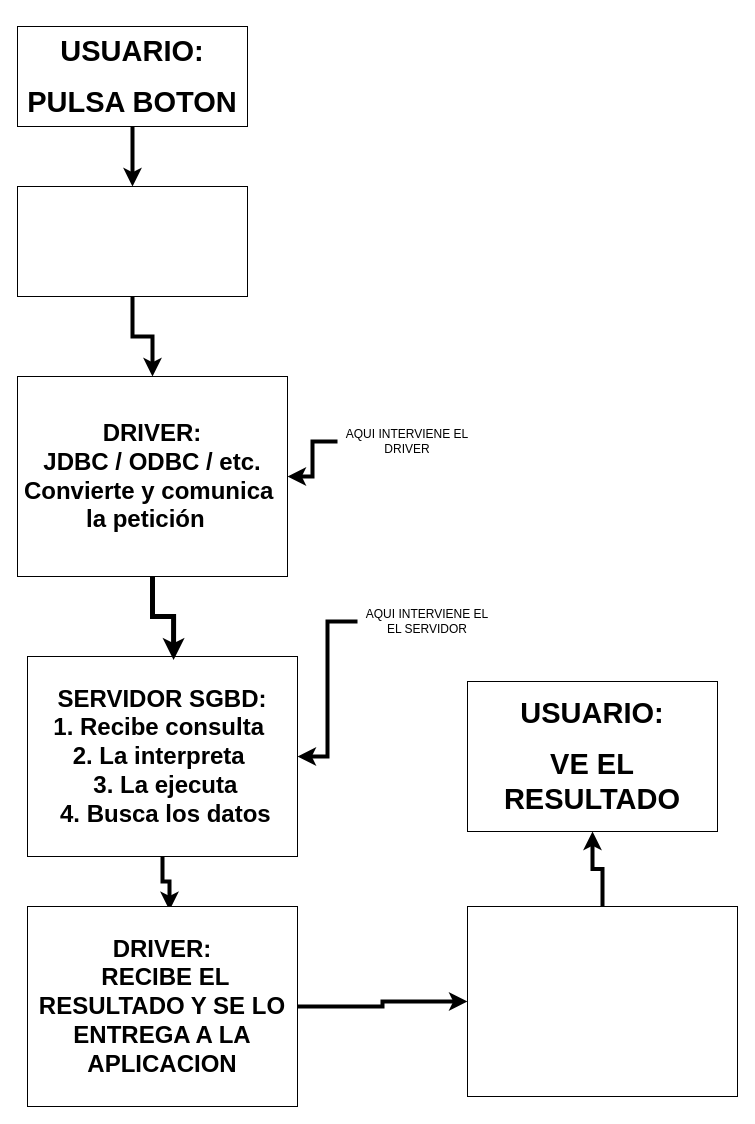
Image size: 755x1124. Some labels were removed from this diagram. Each missing label, with the centre of its shape:
"APLICACION: GENERA LA CONSULTA EN SQL" goes at point (132, 241).
"APLICACION: PROCESA EL RESULTADO Y LO MUESTRA" goes at point (602, 1001).
